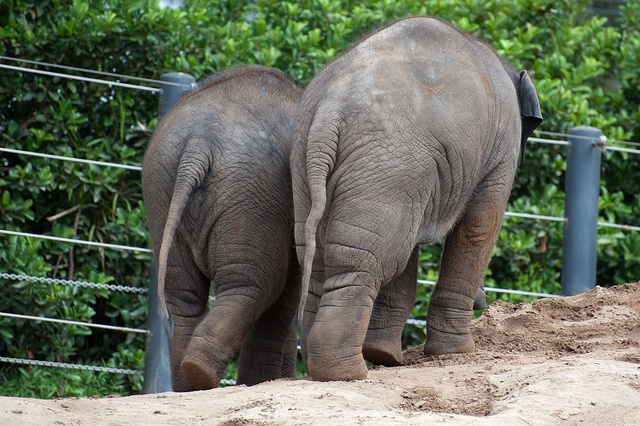elephant: (289, 14, 541, 381), (141, 64, 307, 392)
